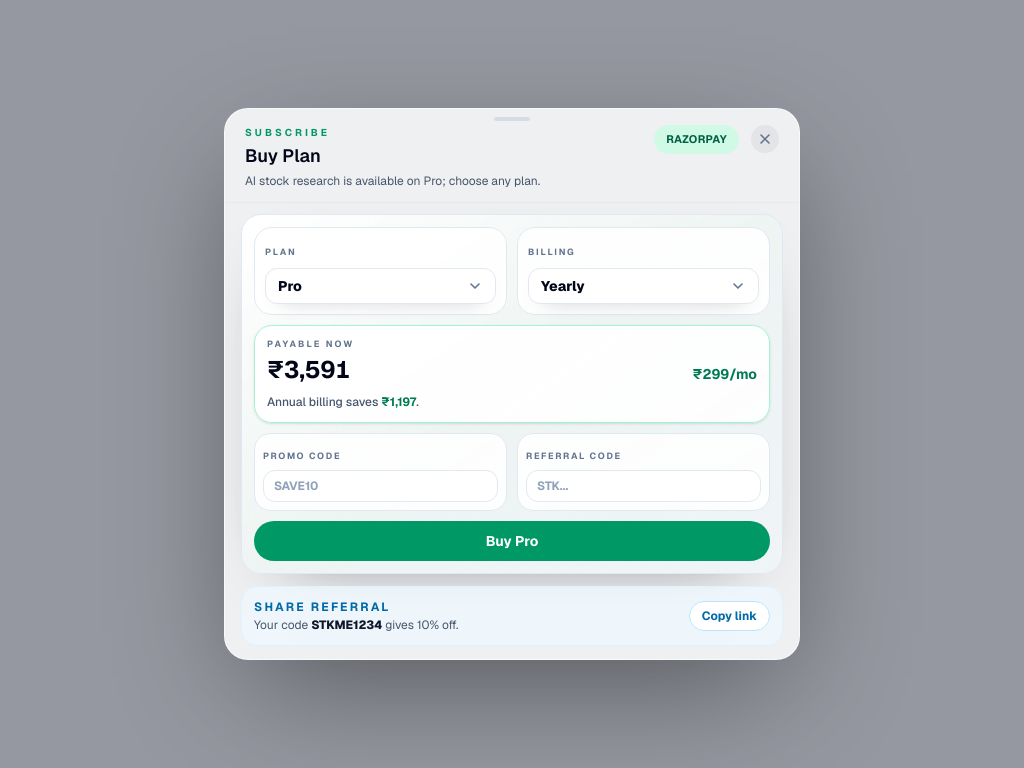
Test: SubscribeModal › applies a promo code quote instantly in the buy modal
In the field labelled "Promo code": point(380, 486) [263,470,498,502], type "save20"
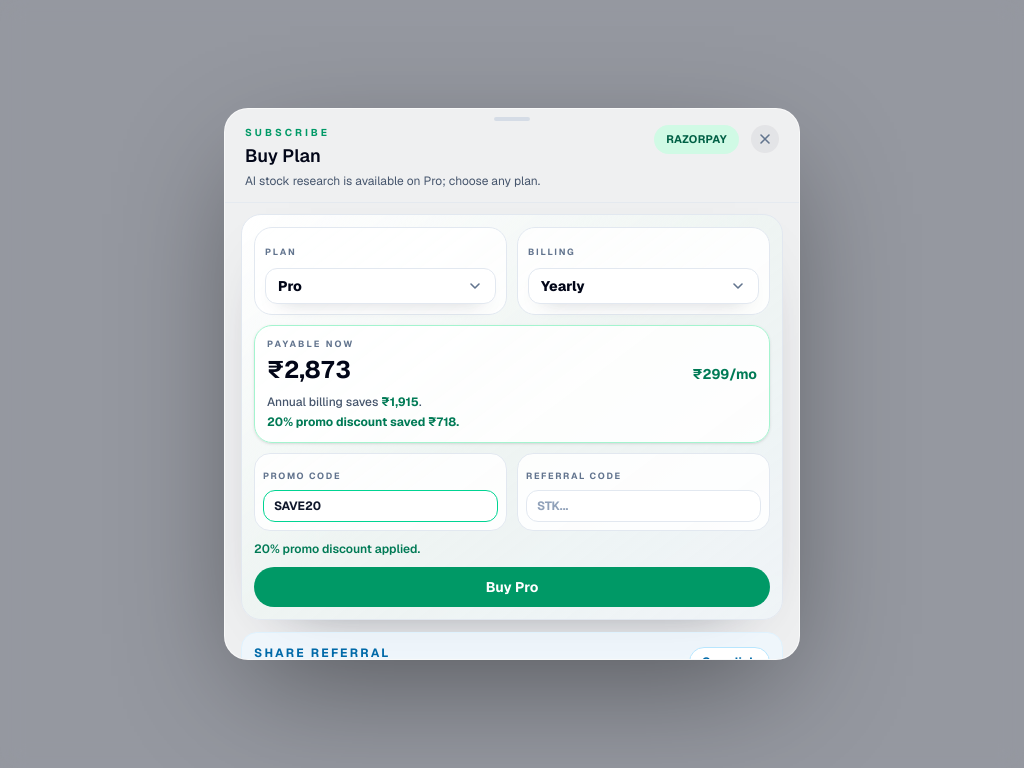
expect the text "20% promo discount applied." is shown: met, box [254,540,420,556]
